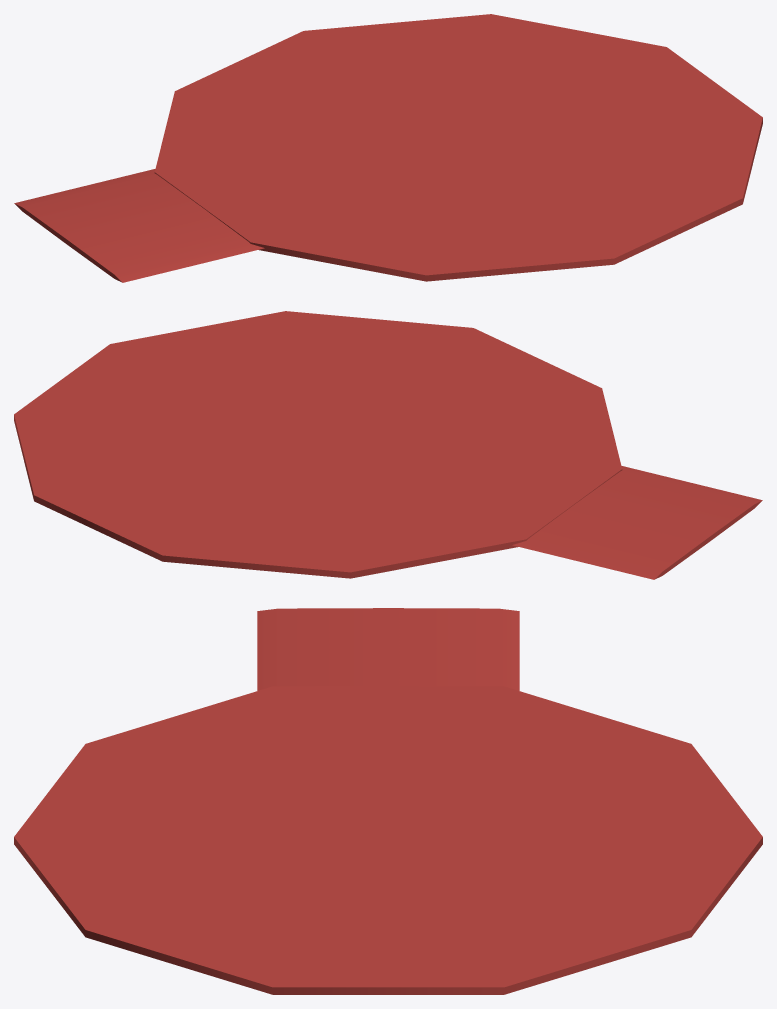
File: clamp_lod1.glb
3 renders of one model, top to bottom at view 1: azimuth 30°, elevation 25°; view 2: azimuth 150°, elevation 25°; view 3: azimuth 270°, elevation 25°, orthographic. The views are drawn at different scales.
Visible parts, largest first — view 1: clamp_lod1; view 2: clamp_lod1; view 3: clamp_lod1.
Part boxes in pixels (x1,y1,x2,y2): clamp_lod1: (14, 14, 762, 282); clamp_lod1: (14, 311, 762, 579); clamp_lod1: (14, 608, 762, 994).
Size of the model in its own units: 2.4 by 0.022 by 2.
